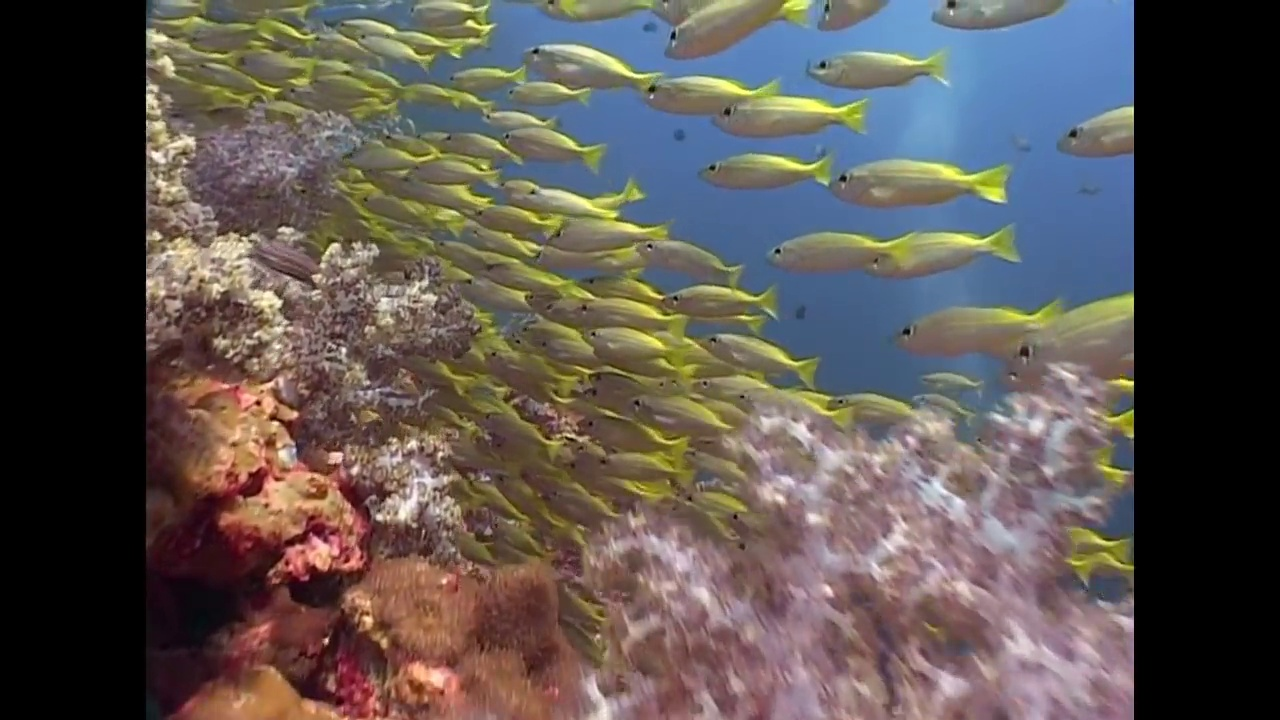big eye snapper: (825, 145, 1005, 212), (1005, 277, 1129, 370), (866, 220, 1022, 281), (759, 217, 914, 273), (891, 304, 1060, 355), (711, 87, 867, 137), (692, 328, 813, 390), (520, 34, 657, 88), (688, 142, 830, 191), (670, 3, 786, 59), (660, 271, 784, 322), (800, 50, 949, 91), (568, 407, 683, 459), (636, 69, 778, 109), (500, 176, 624, 221), (482, 339, 568, 403), (538, 210, 670, 251), (1044, 92, 1132, 153), (626, 385, 729, 437), (634, 237, 738, 287), (591, 446, 696, 492), (488, 466, 558, 532), (476, 407, 560, 461), (574, 287, 671, 333), (581, 321, 674, 362), (896, 375, 973, 424), (498, 119, 600, 155), (193, 57, 276, 101), (407, 148, 498, 188), (480, 260, 576, 297), (334, 135, 427, 173), (822, 388, 911, 426), (433, 126, 520, 164), (502, 75, 591, 110), (359, 186, 436, 226), (351, 33, 429, 69), (302, 71, 384, 104), (395, 82, 480, 113), (586, 368, 640, 412), (522, 287, 576, 331), (444, 56, 520, 87), (431, 234, 485, 274), (910, 367, 982, 397), (402, 2, 487, 26), (476, 105, 556, 130), (464, 212, 536, 235), (327, 15, 398, 38)
